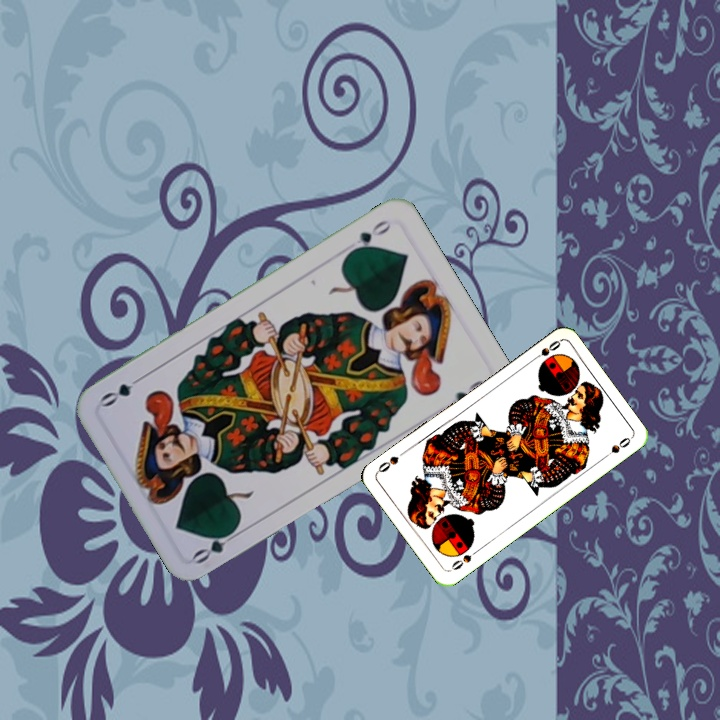GO: (189, 523, 244, 567), (344, 215, 395, 257)
SO: (527, 336, 563, 365), (446, 546, 482, 573)
